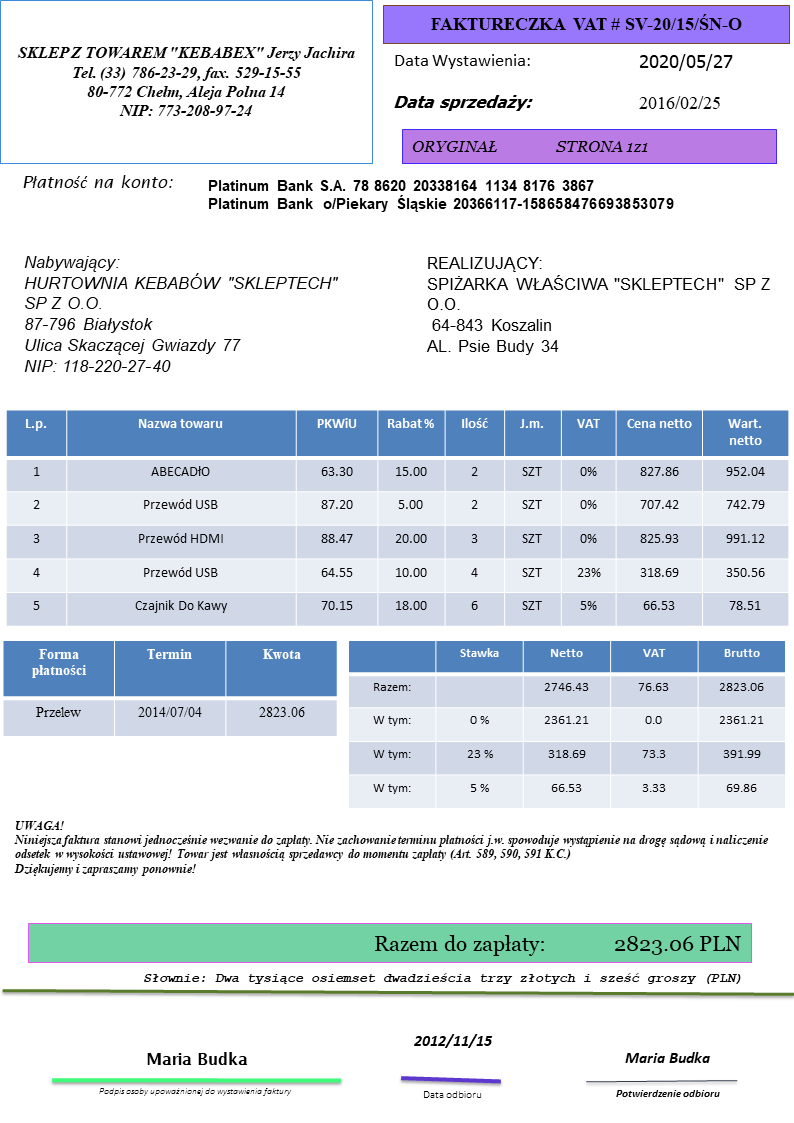Table: (4, 407, 790, 630), (345, 638, 787, 811), (2, 638, 340, 738)
TextBox: (12, 815, 770, 879), (22, 251, 342, 375), (423, 253, 774, 355), (14, 40, 356, 124), (206, 175, 679, 216), (369, 928, 743, 961), (138, 969, 743, 987), (429, 9, 749, 37), (409, 136, 651, 157), (20, 171, 173, 192), (389, 50, 533, 70), (391, 94, 535, 113), (95, 1084, 296, 1097), (636, 49, 736, 74), (142, 1048, 252, 1069), (613, 1085, 723, 1101), (621, 1049, 714, 1067), (637, 93, 723, 111), (410, 1031, 496, 1049), (419, 1086, 487, 1102)
